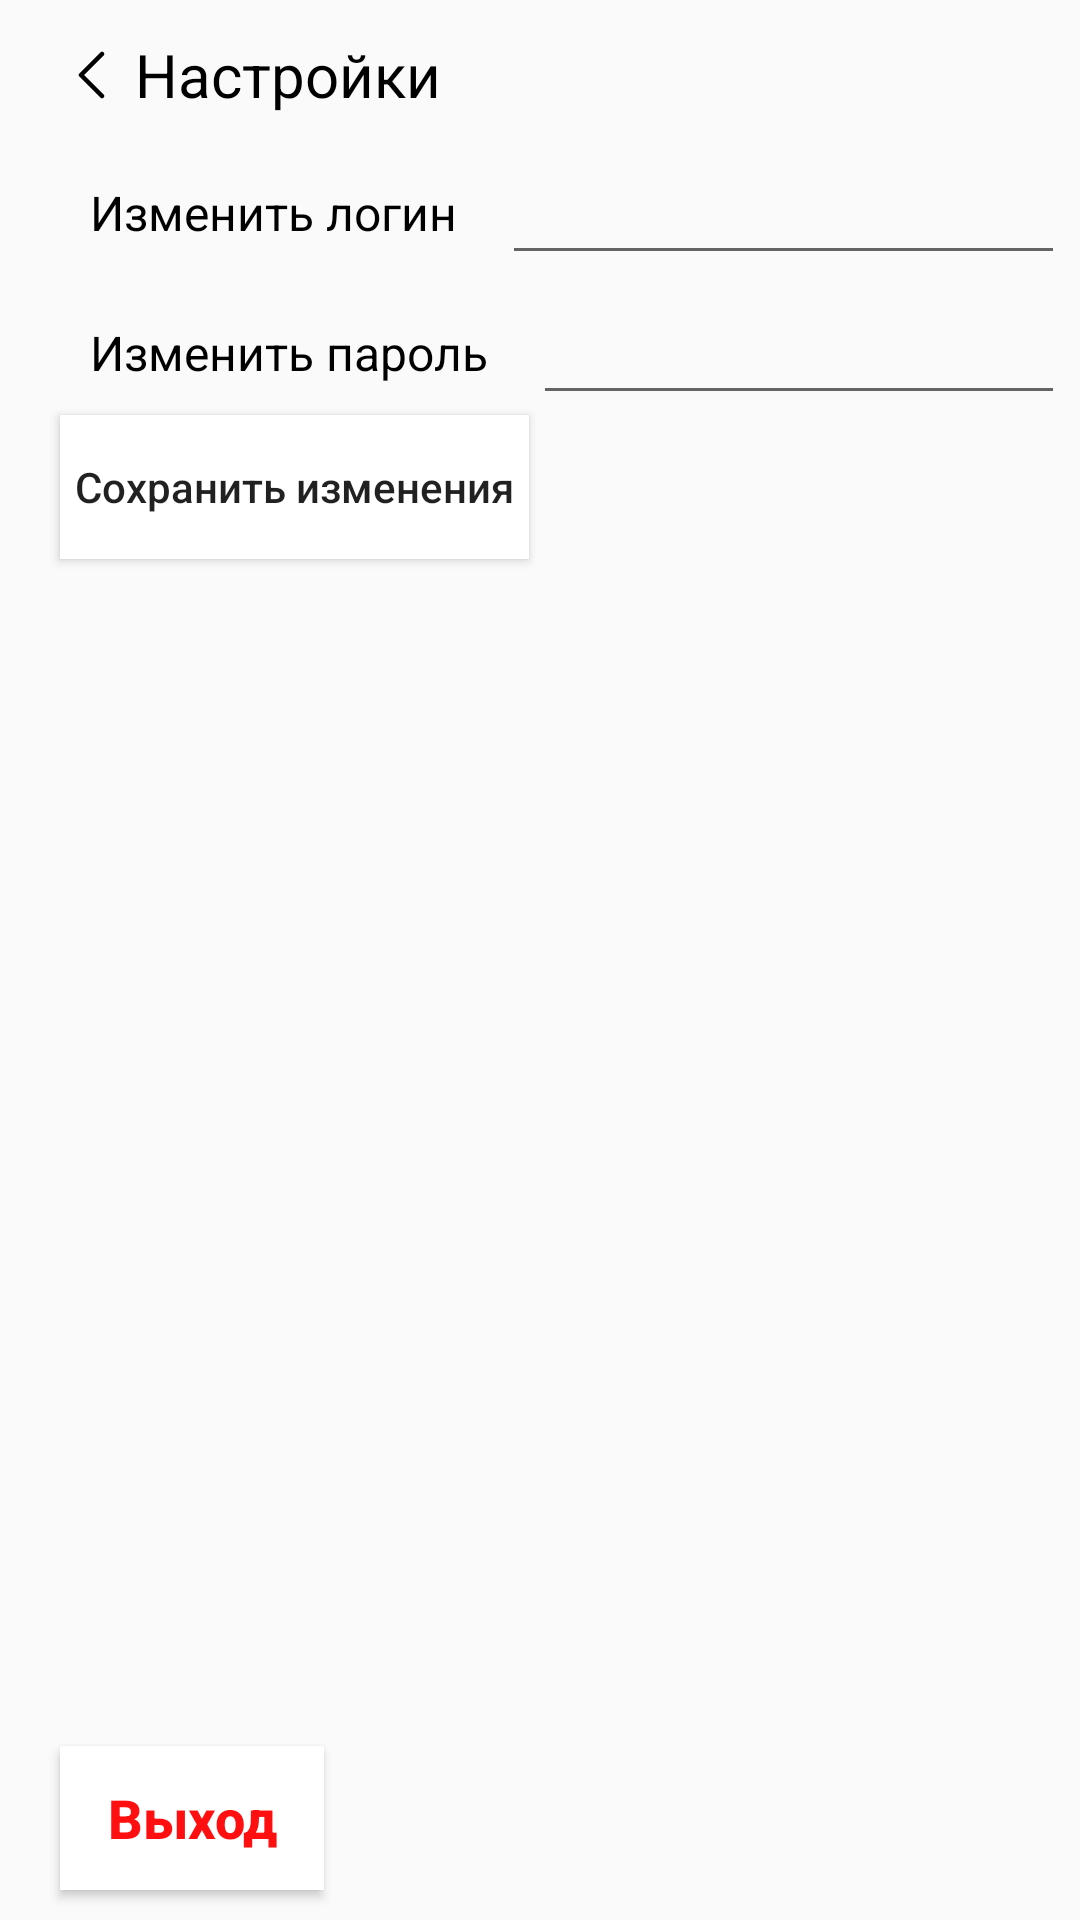

Icons on this 1080 x 1920 Android screen, each with its box as [left=x1, top=y1, right=x2, bottom=y2]:
back arrow: [left=78, top=51, right=105, bottom=99]
